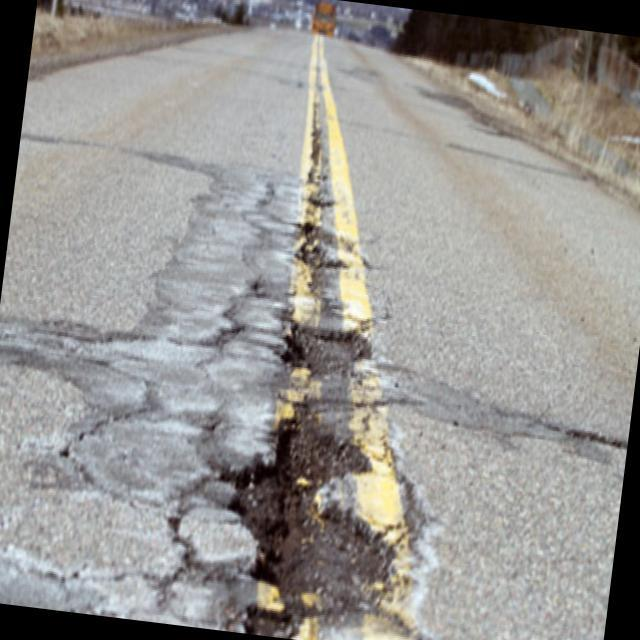Pothole: (224, 397, 414, 640), (276, 306, 372, 385), (288, 210, 358, 284), (298, 160, 338, 212)
